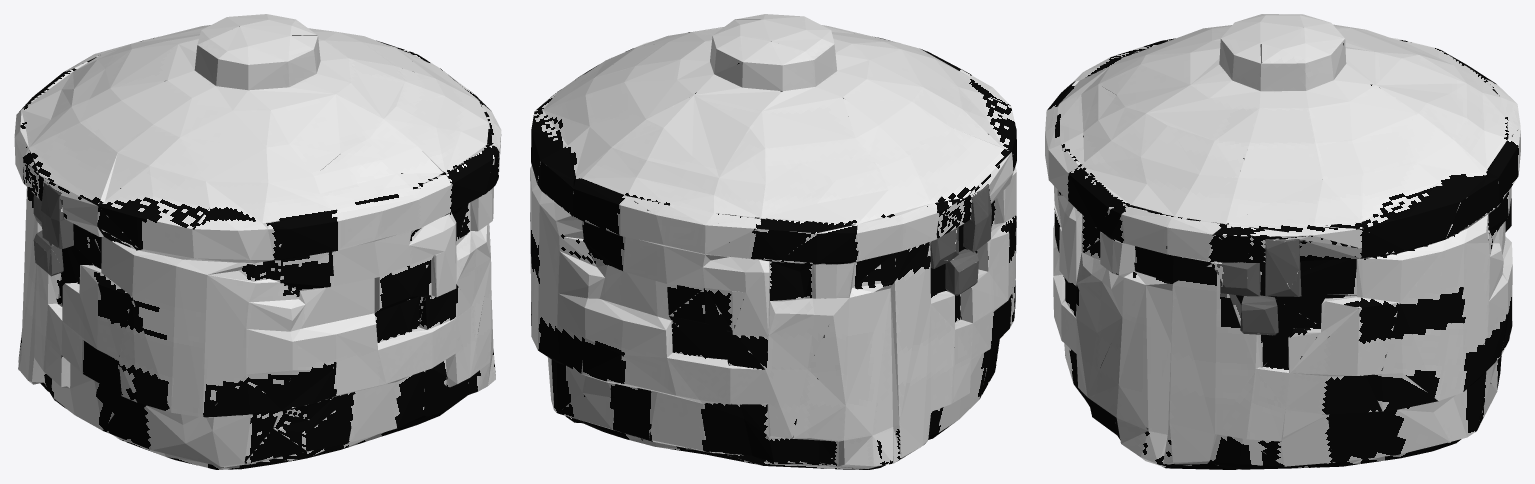
3 renders of one model, left to right at view 1: azimuth 30°, elevation 25°; view 2: azimuth 150°, elevation 25°; view 3: azimuth 270°, elevation 25°, orthographic.
Parts seen in each view (by area): view 1: OBJ084; view 2: OBJ084; view 3: OBJ084.
Boxes of the visible parts, <box> form: OBJ084: <box>14,14,501,469</box>; OBJ084: <box>530,14,1016,469</box>; OBJ084: <box>1045,14,1520,469</box>.
Bounding box in the file's own units: 0.3124 × 0.2497 × 0.3027.
1 material, 1 textured.
